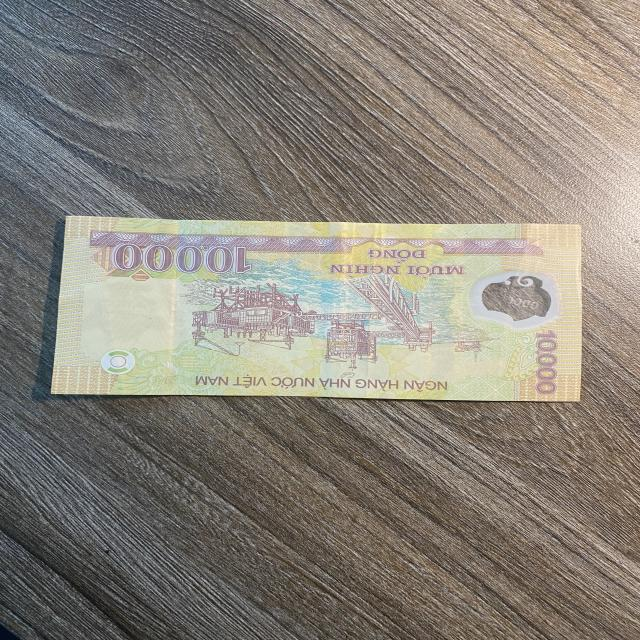10 000 VND: (48, 216, 584, 402)
